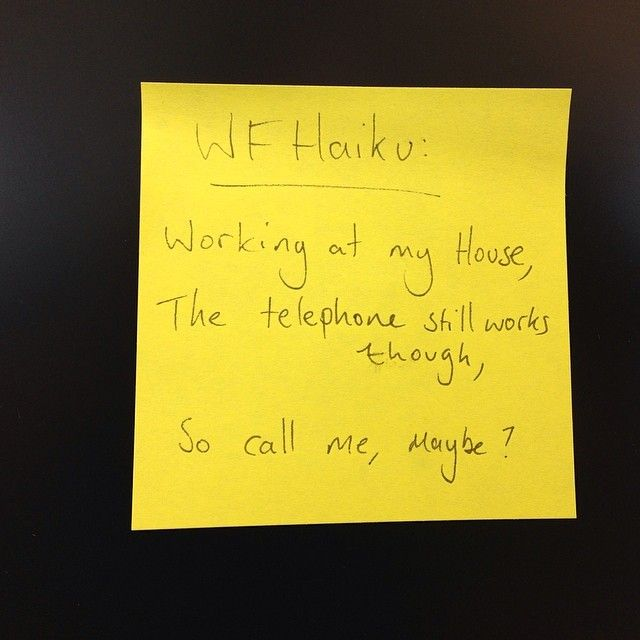Note: (136, 78, 584, 524)
